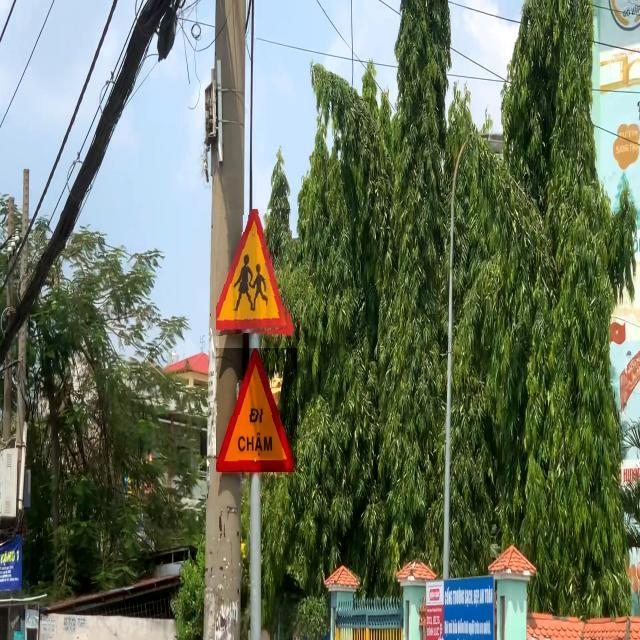W-225: (216, 209, 294, 337)
W-245a: (216, 348, 297, 472)
